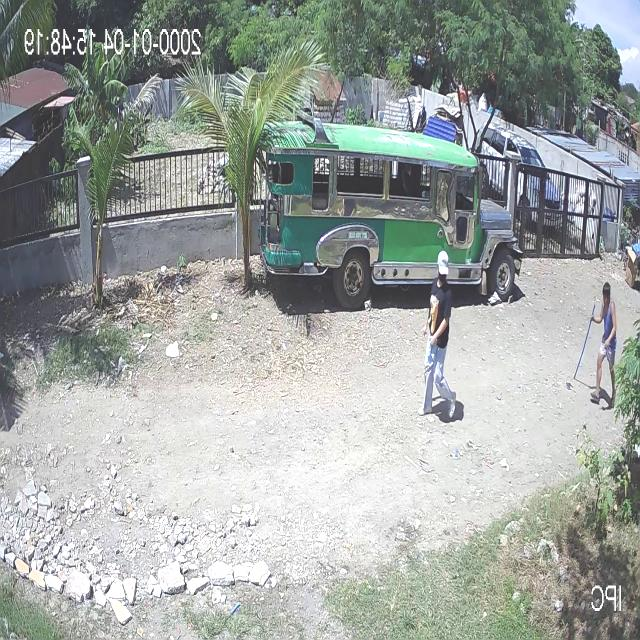running: (574, 284, 619, 403)
walking: (419, 253, 456, 418)
